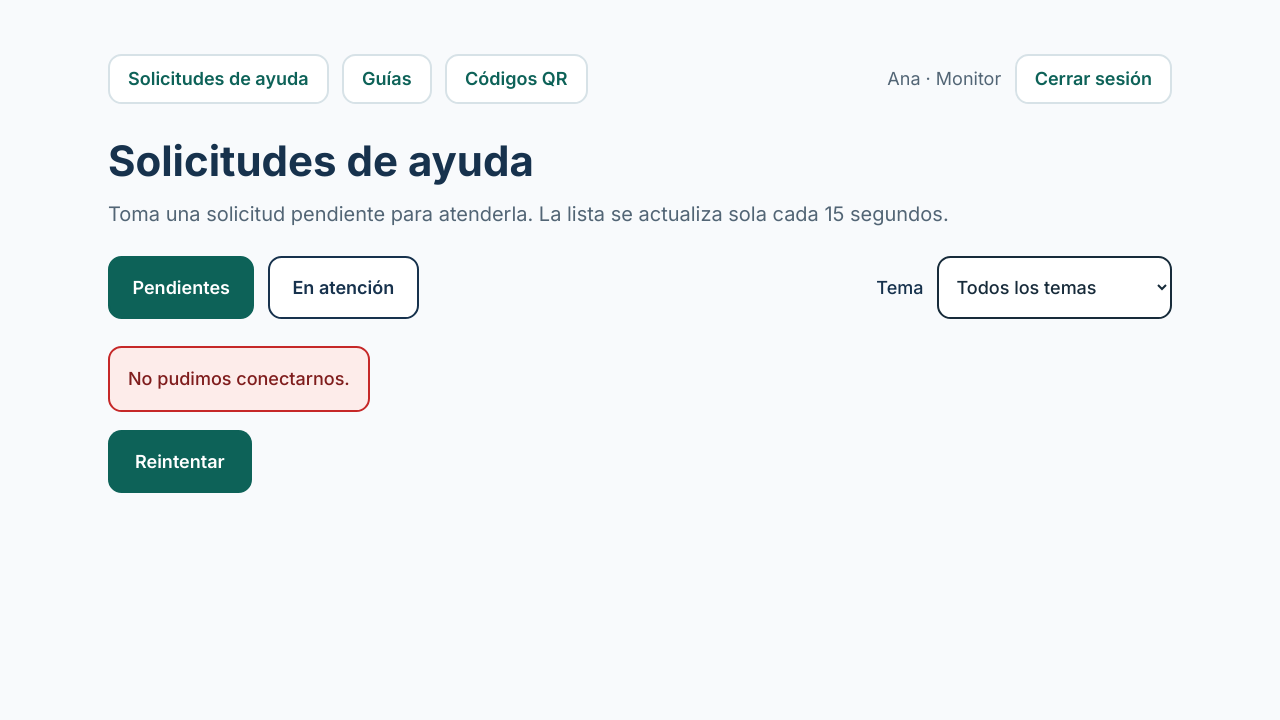
Test: ColaSolicitudesPage › listado › error inicial muestra alerta con Reintentar, nunca «vacío», y se recupera
The image size is (1280, 720).
expect the message reads "No pudimos conectarnos.": met, box [128, 368, 350, 389]
Click the button "Reintentar" at (180, 462), box [108, 430, 252, 494]
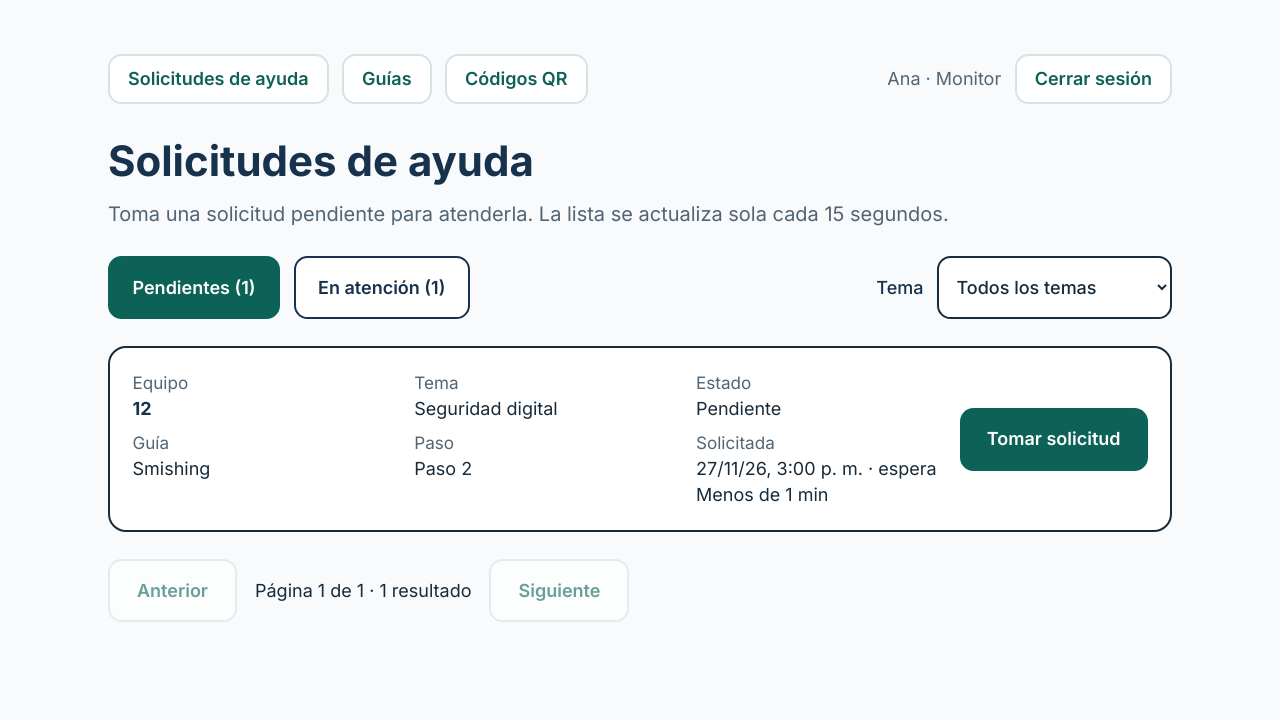
expect the button "Tomar solicitud" is shown: met, box [960, 408, 1148, 471]
